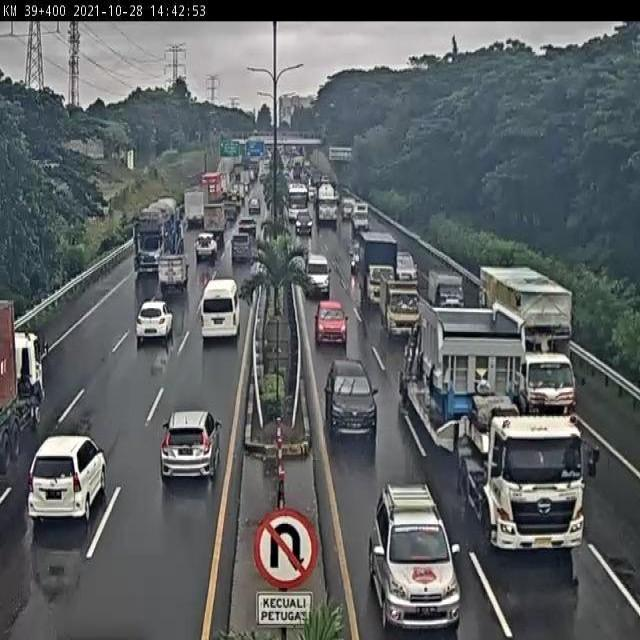big truck: (137, 195, 188, 269)
bus-s-: (305, 253, 332, 299)
car: (367, 484, 462, 635), (28, 434, 108, 526), (161, 409, 222, 483), (325, 357, 378, 440), (199, 279, 241, 340), (313, 301, 350, 351), (135, 300, 172, 344), (396, 248, 419, 283)
small truck: (161, 247, 194, 290)
truck-l-: (479, 267, 577, 425)
truck-m-: (379, 271, 427, 340), (360, 229, 399, 312)
truck-s-: (427, 267, 464, 312)
truck-xl-: (397, 297, 600, 559)
